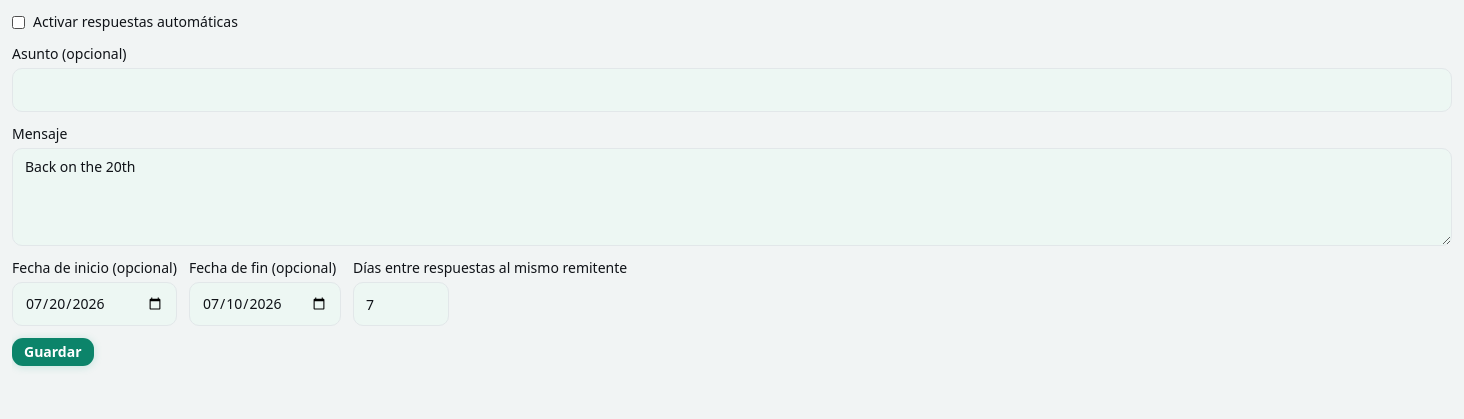
Test case: VacationSettings › blocks saving when the end date is before the start date
This screenshot has width=1464, height=419.
Expected: the checkbox labelled "Activar respuestas automáticas" is shown, [12, 16, 25, 28]
Click the button "Guardar" at (53, 352), box [12, 338, 94, 366]
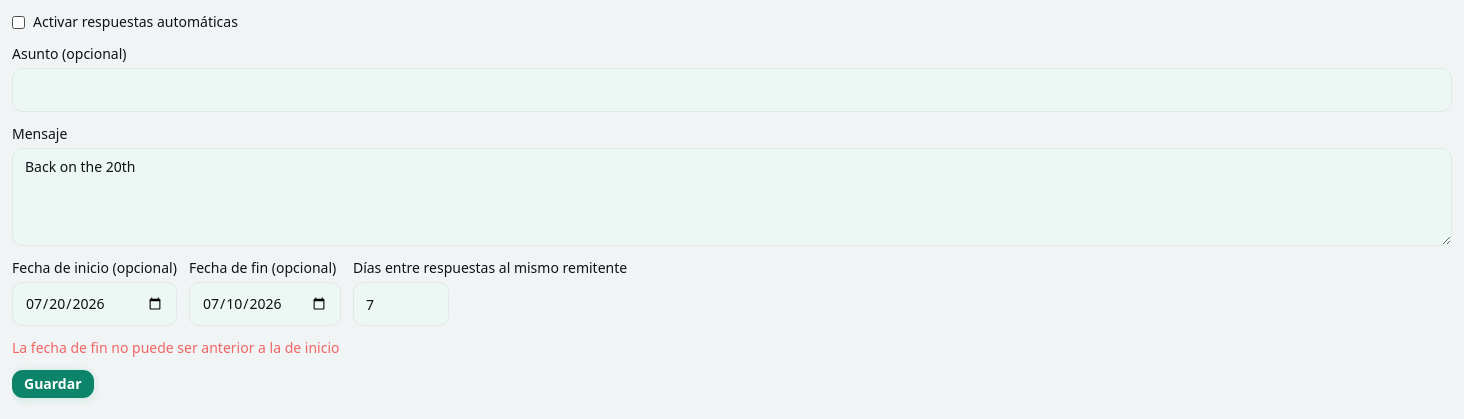
Expected: the text "La fecha de fin no puede ser anterior a la de inicio" is shown, [12, 338, 340, 357]
